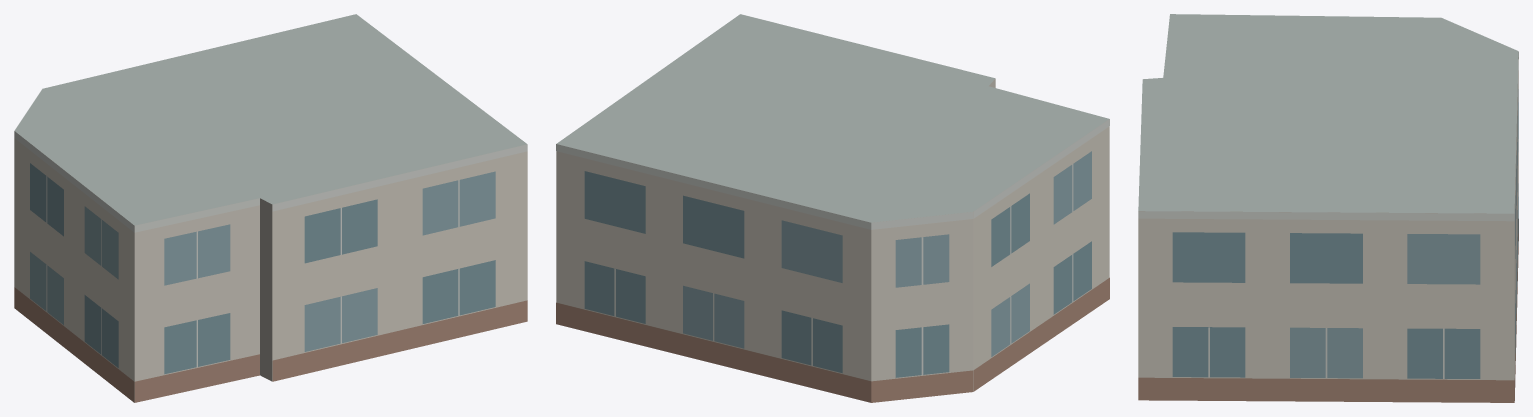
Rendered from survey-upis-32878643.glb.
The picture shows the model from 3 angles, left to right: view 1: azimuth 30°, elevation 25°; view 2: azimuth 150°, elevation 25°; view 3: azimuth 270°, elevation 25°; orthographic projection. The views are drawn at different scales.
Parts seen in each view (by area): view 1: survey-upis-32878643.tmp; view 2: survey-upis-32878643.tmp; view 3: survey-upis-32878643.tmp.
Boxes of the visible parts, <box> form: survey-upis-32878643.tmp: <box>14,14,527,402</box>; survey-upis-32878643.tmp: <box>556,14,1109,402</box>; survey-upis-32878643.tmp: <box>1138,14,1518,402</box>.
Bounding box in the file's own units: 13.81 × 6.1 × 11.12.
